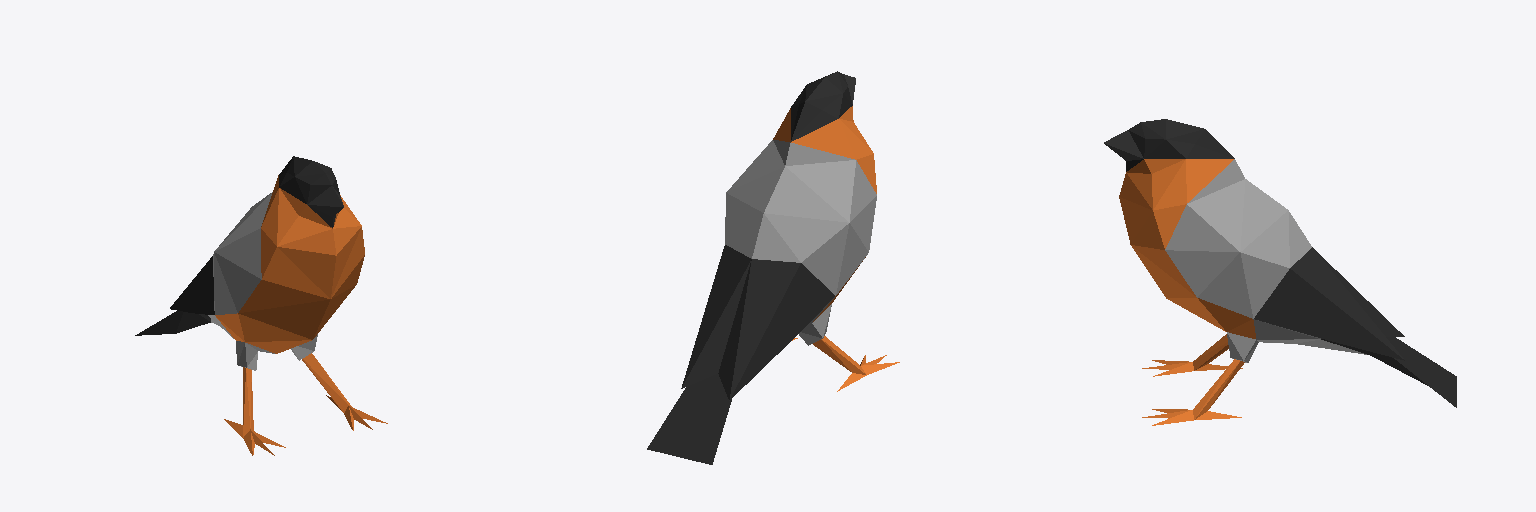
3 renders of one model, left to right at view 1: azimuth 30°, elevation 25°; view 2: azimuth 150°, elevation 25°; view 3: azimuth 270°, elevation 25°, orthographic.
Visible parts, largest first — view 1: Plane_Plane_4; view 2: Plane_Plane_4; view 3: Plane_Plane_4.
Boxes of the visible parts, x1,y1,x2,y2 form: Plane_Plane_4: [135, 156, 387, 455]; Plane_Plane_4: [647, 71, 899, 464]; Plane_Plane_4: [1104, 119, 1456, 425].
Size of the model in its own units: 2.63 by 5.06 by 5.92.
Materials: 1 (1 with a texture image).